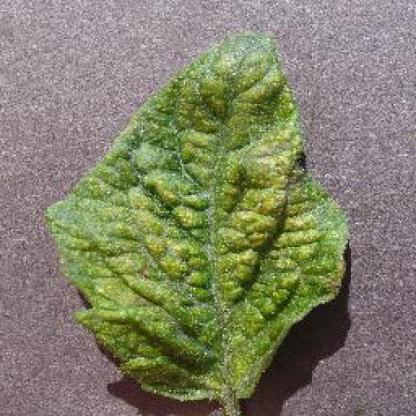Tomato_Spider_Mites: (58, 35, 346, 401)
